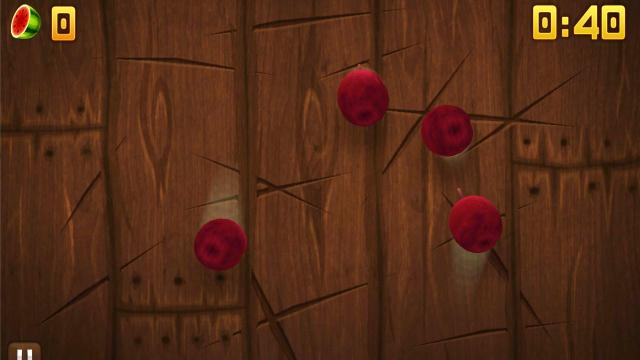fruit: (448, 192, 504, 254), (338, 66, 390, 126), (421, 103, 475, 157), (194, 217, 248, 271)
ignore: (9, 3, 43, 41)
